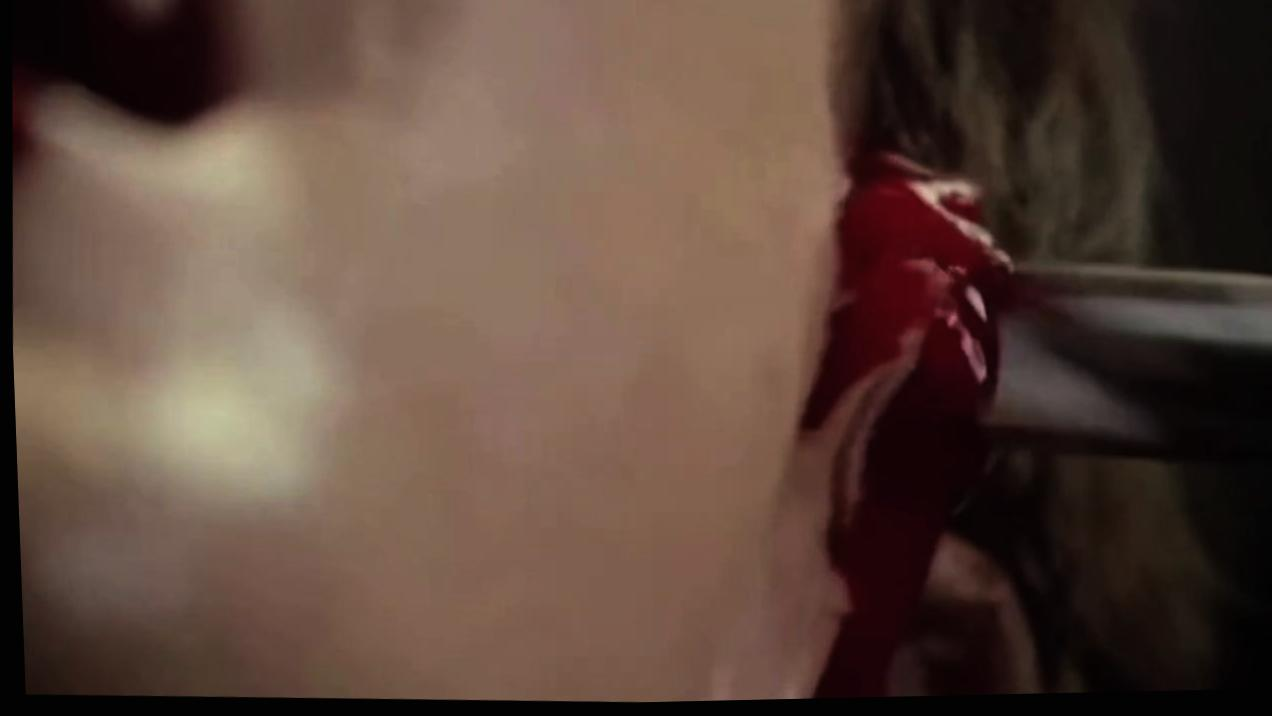Fire: (799, 151, 1013, 702)
